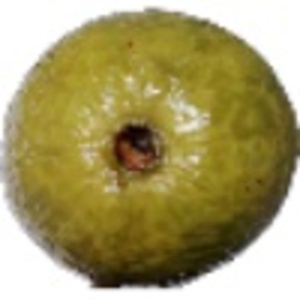goiaba: (4, 4, 295, 293)
